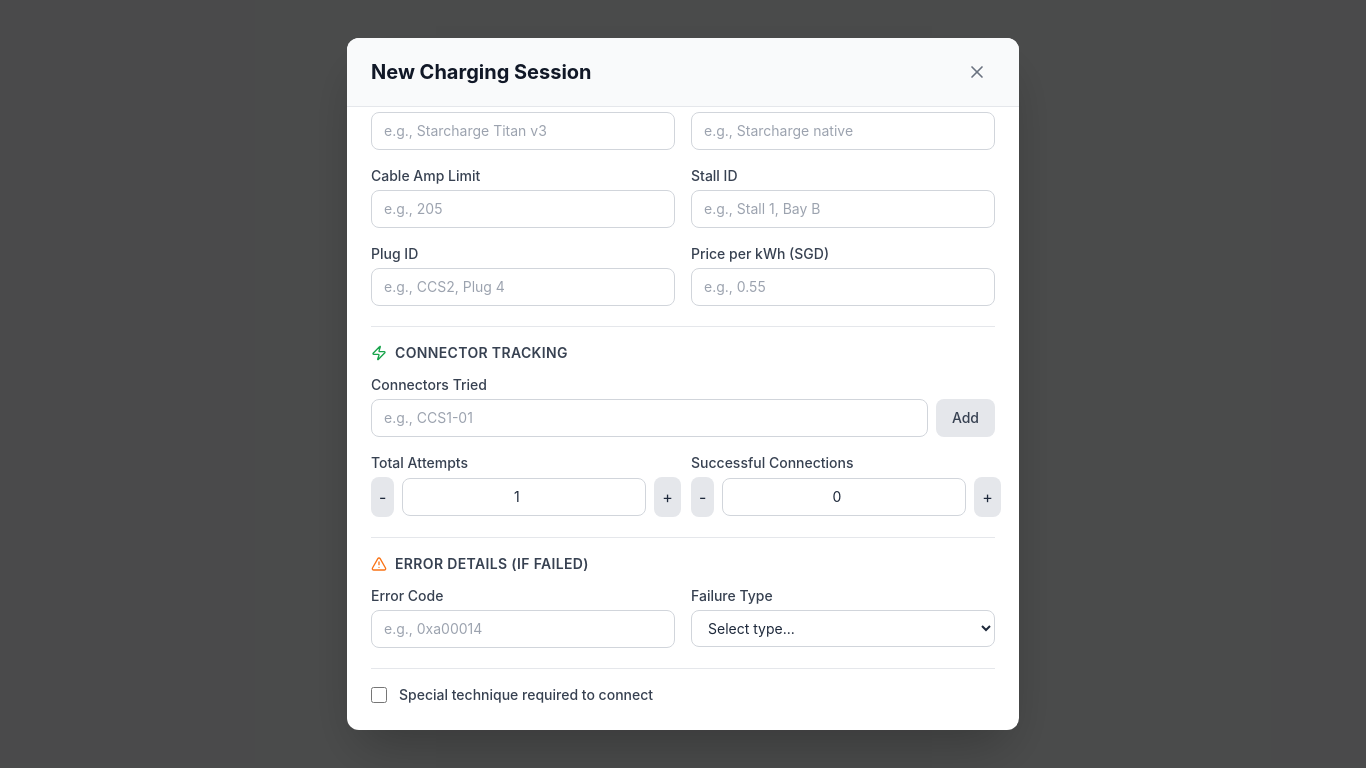
Scenario: NewLogModal › Connector Tracking › adds connectors to the tried list
The image size is (1366, 768).
(page scrolled)
Expected: the heading "Connector Tracking" is shown, [371,344,568,361]
Note: Find the input by placeholder
Type "CCS1-01" into the field with placeholder "e.g., CCS1-01" at [649, 418], box [371,399,928,437]
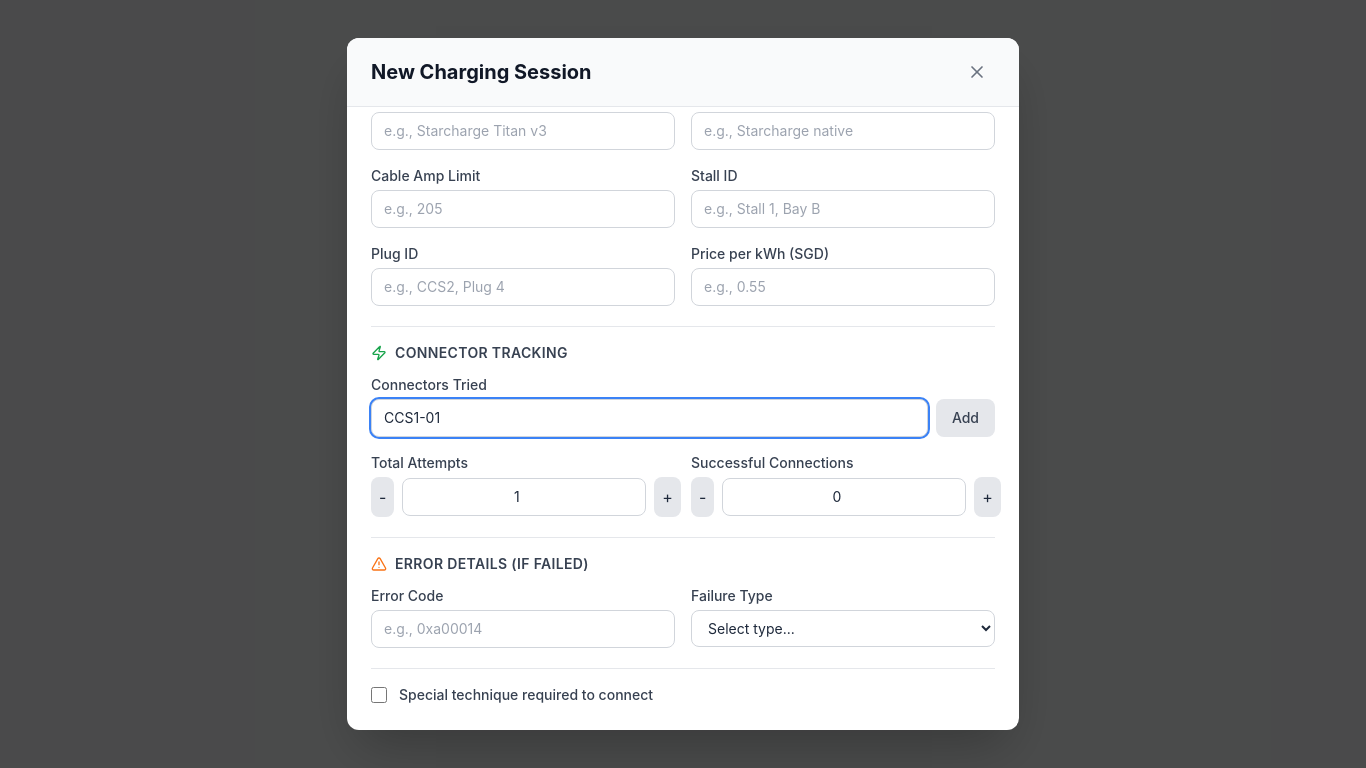
Note: Click add button
Click the button "Add" at [965, 418], box [936,399,995,437]
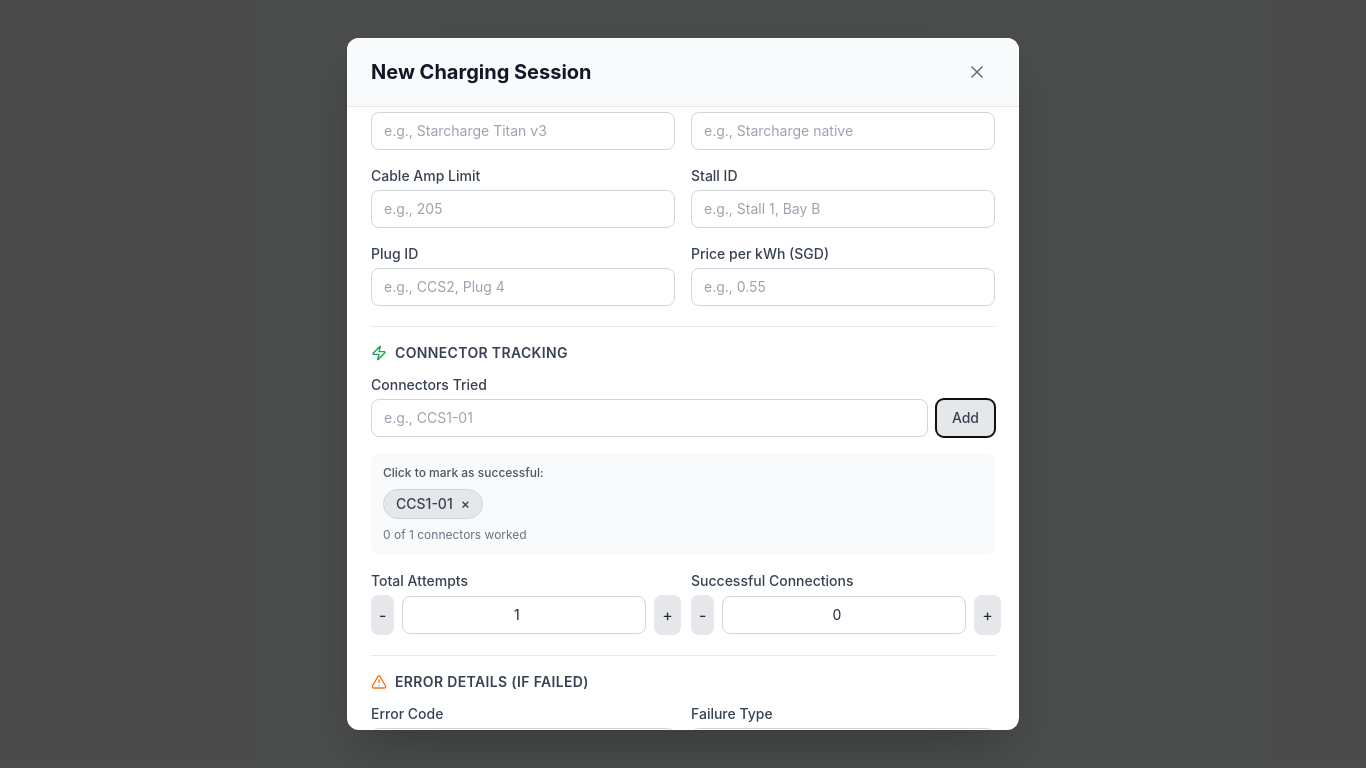
Now the button "CCS1-01 ×" is shown, box [383,489,483,519]
